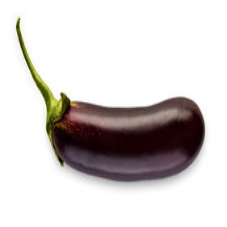eggplant: (44, 95, 201, 182)
